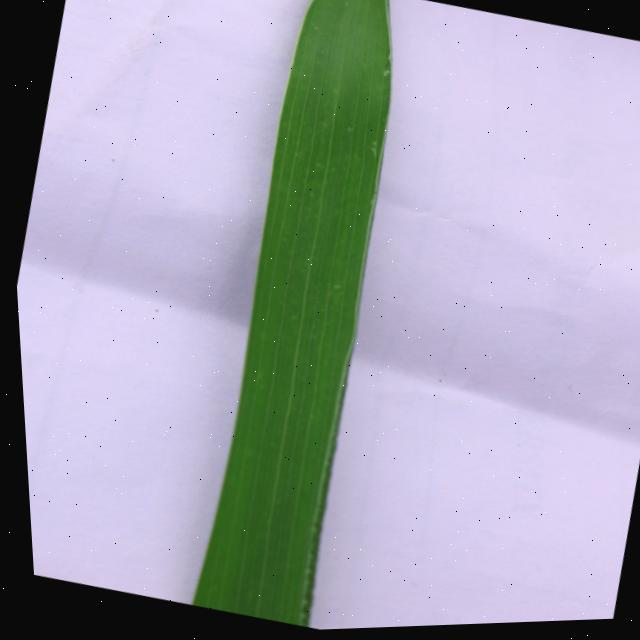healthy_wheat: (143, 0, 479, 636)
